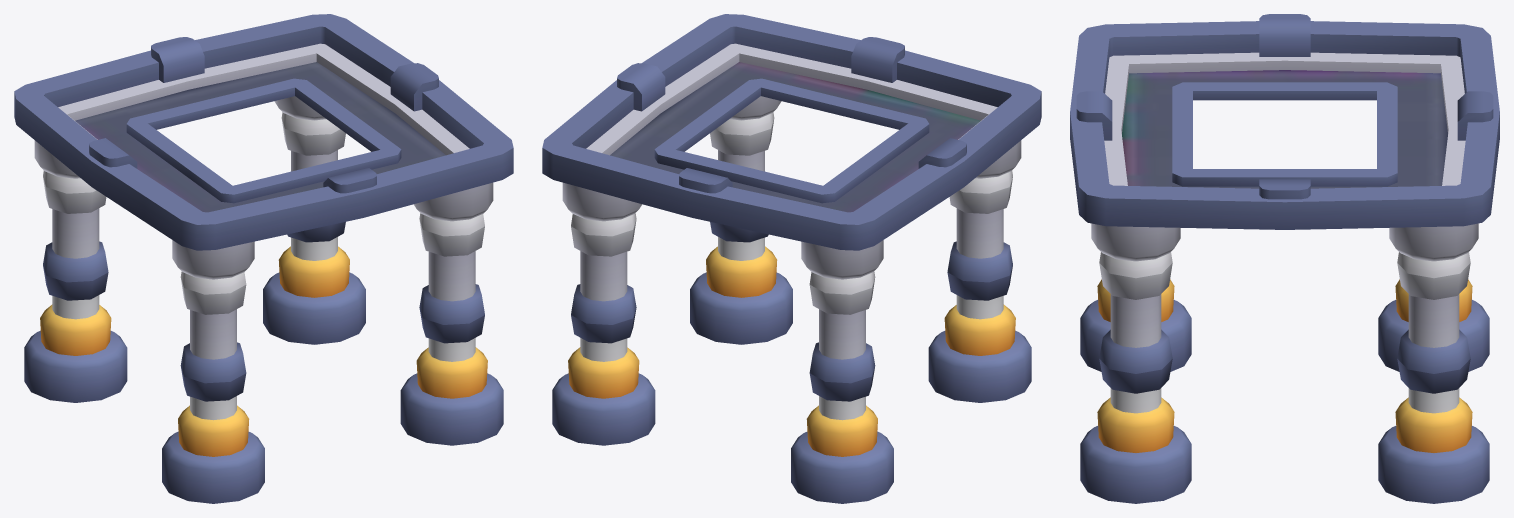
The model's file is template-floor-layer-hole.glb.
3 renders of one model, left to right at view 1: azimuth 30°, elevation 25°; view 2: azimuth 150°, elevation 25°; view 3: azimuth 270°, elevation 25°, orthographic. The views are drawn at different scales.
Parts seen in each view (by area): view 1: template-floor-layer-hole; view 2: template-floor-layer-hole; view 3: template-floor-layer-hole.
Boxes of the visible parts, <box> form: template-floor-layer-hole: <box>14,14,513,503</box>; template-floor-layer-hole: <box>542,14,1041,503</box>; template-floor-layer-hole: <box>1070,14,1499,503</box>.
Bounding box in the file's own units: 4.2 × 3.4 × 4.2.
1 material, 1 textured.
